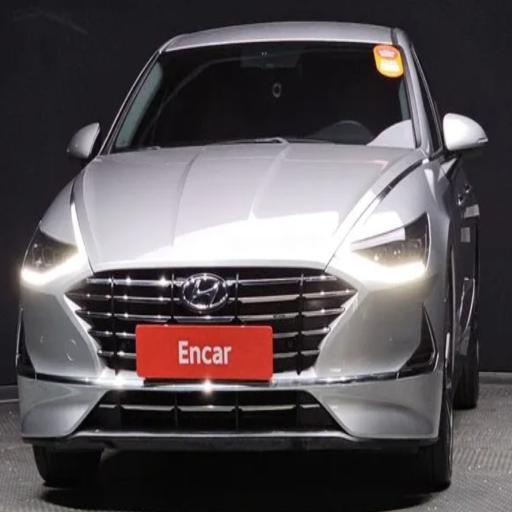normal: (10, 12, 495, 492)
